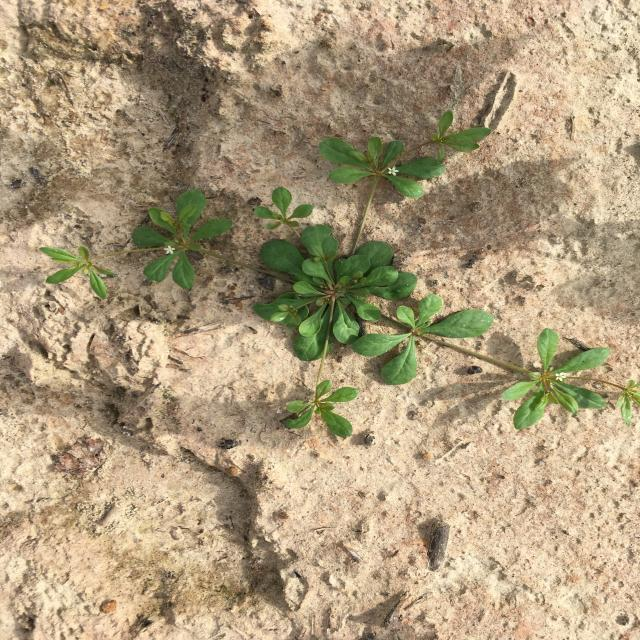Carpetweed: (38, 108, 640, 437)
